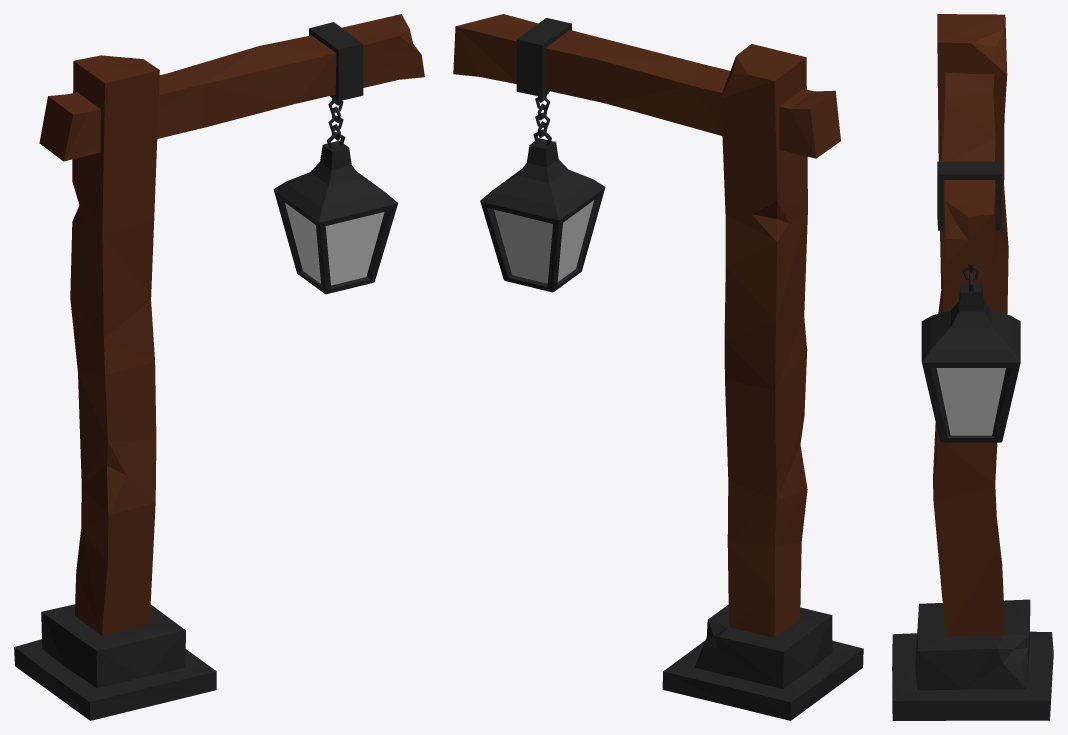
The model's file is street_lamp.obj.
3 renders of one model, left to right at view 1: azimuth 30°, elevation 25°; view 2: azimuth 150°, elevation 25°; view 3: azimuth 270°, elevation 25°, orthographic. The views are drawn at different scales.
Visible parts, largest first — view 1: Lantern1_Cube.015; view 2: Lantern1_Cube.015; view 3: Lantern1_Cube.015.
Part boxes in pixels (<box>): Lantern1_Cube.015: <box>14,14,424,720</box>; Lantern1_Cube.015: <box>453,14,863,720</box>; Lantern1_Cube.015: <box>892,14,1053,720</box>.
Bounding box in the file's own units: 3.69 × 5.96 × 1.32.
